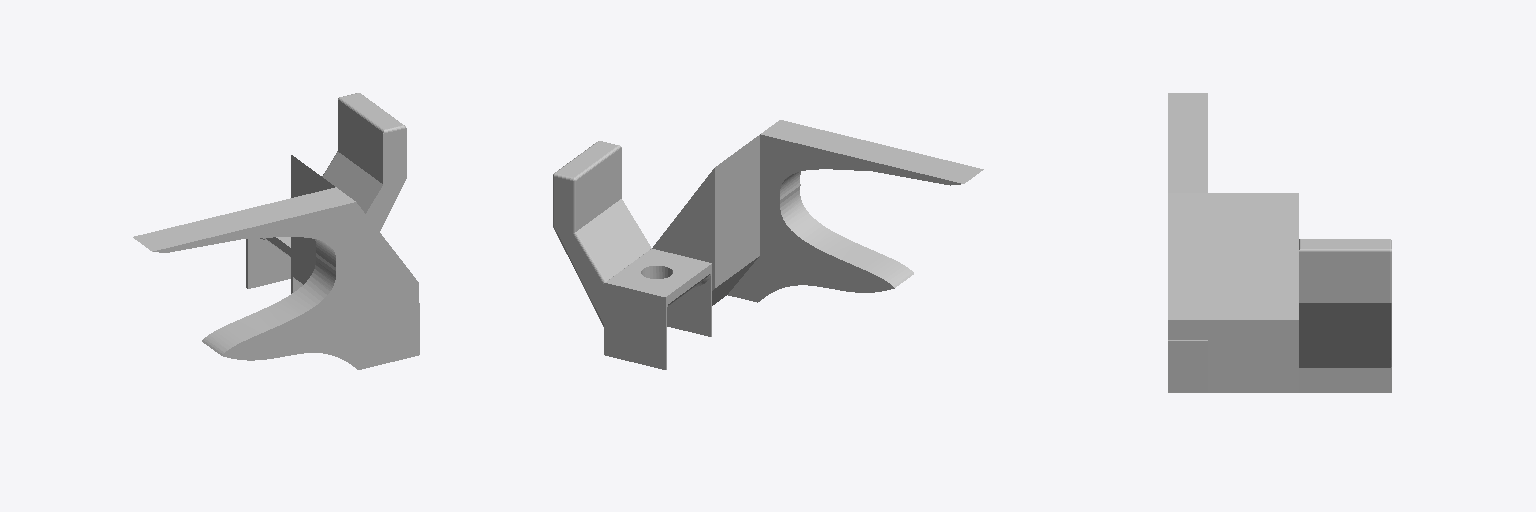
The model's file is Greifer_long_nose_new_rechts.obj.
3 views of the same model, side by side, from view 1: azimuth 30°, elevation 25°; view 2: azimuth 150°, elevation 25°; view 3: azimuth 270°, elevation 25° (orthographic).
Visible parts, largest first — view 1: Körper3:1; view 2: Körper3:1; view 3: Körper3:1.
Part boxes in pixels (left/top/right/bottom): Körper3:1: left=133, top=93, right=419, bottom=369; Körper3:1: left=553, top=120, right=983, bottom=369; Körper3:1: left=1168, top=93, right=1391, bottom=392.
Size of the model in its own units: 0.069 by 0.0348 by 0.042.